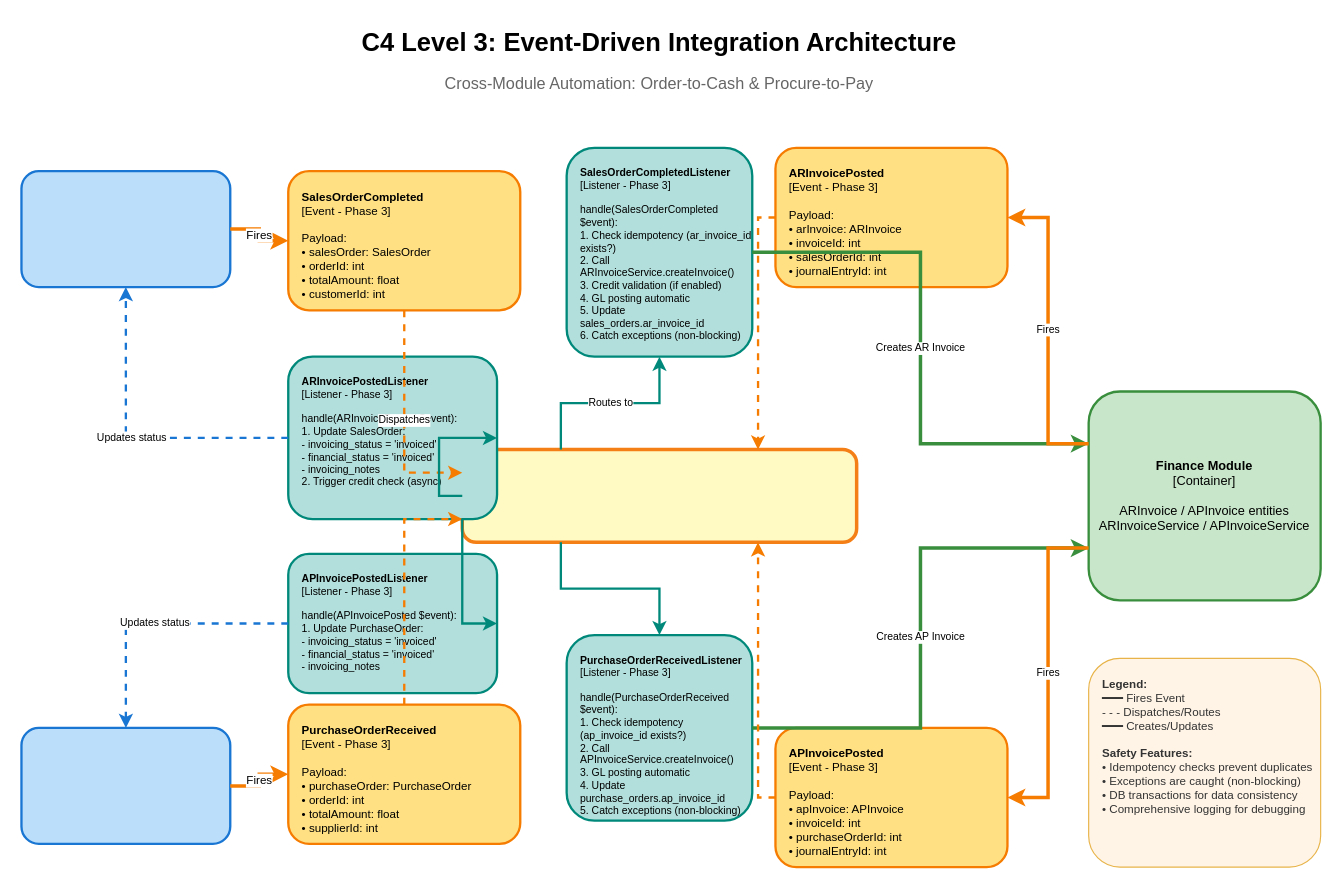
The diagram is 1341 pixels wide and 887 high, and some of its shapes have lost their labels. Each missing label, with the centre of its shape:
"Laravel Event Bus [Infrastructure Component]" goes at (659,495).
"Purchase Module [Container] PurchaseOrder entity Status: received" goes at (125,785).
"Sales Module [Container] SalesOrder entity Status: completed" goes at (125,228).
